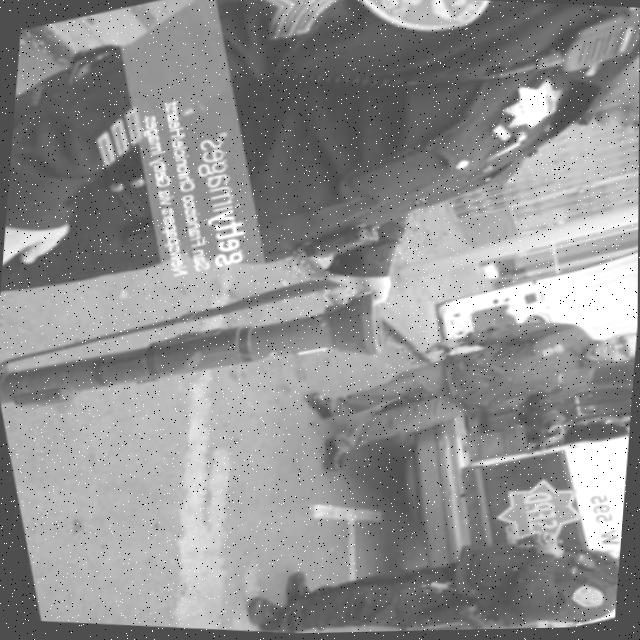rocket: (0, 250, 403, 460)
